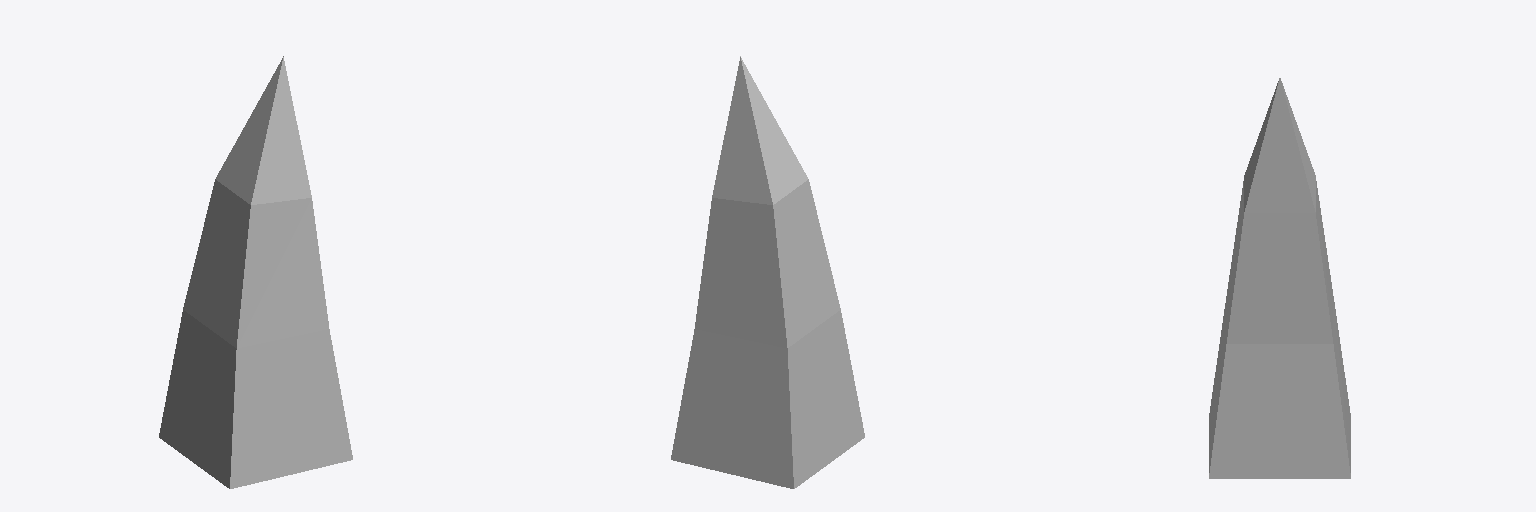
Rendered from skeletal_000038.obj.
The picture shows the model from 3 angles: view 1: azimuth 30°, elevation 25°; view 2: azimuth 150°, elevation 25°; view 3: azimuth 270°, elevation 25°; orthographic projection.
Visible parts, largest first — view 1: Cube; view 2: Cube; view 3: Cube.
Part boxes in pixels (x1,y1,x2,y2): Cube: (159,56,352,488); Cube: (671,56,864,488); Cube: (1209,78,1350,478).
Size of the model in its own units: 2 by 5.97 by 2.